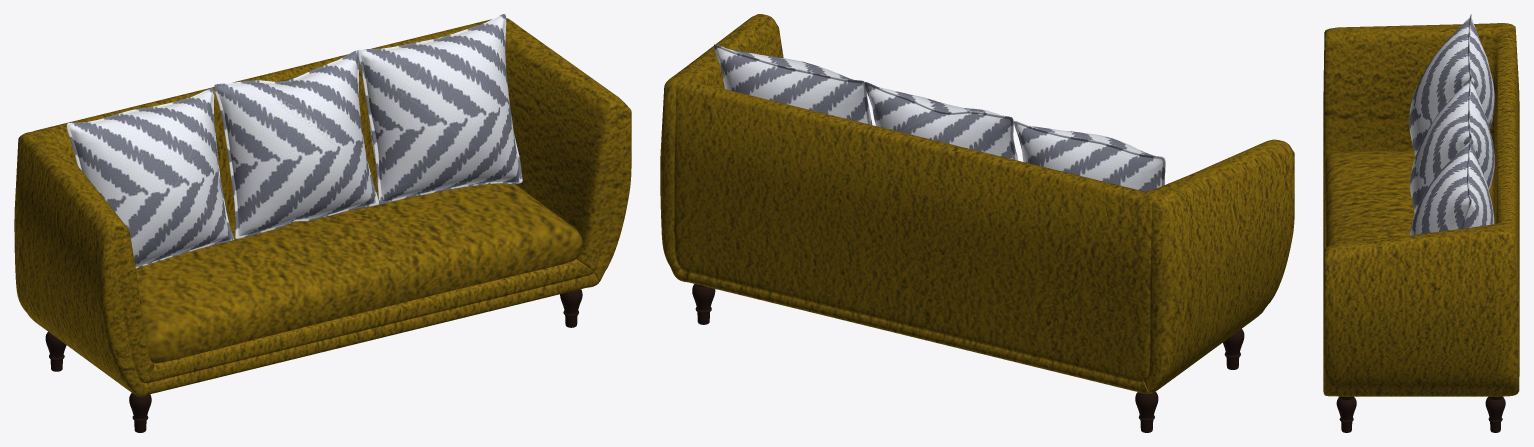
3 views of the same model, side by side, from view 1: azimuth 30°, elevation 25°; view 2: azimuth 150°, elevation 25°; view 3: azimuth 270°, elevation 25° (orthographic). The views are drawn at different scales.
Parts seen in each view (by area): view 1: pillow_01_geo, couch, seat, Legs_02_geo; view 2: couch, pillow_01_geo, Legs_02_geo; view 3: couch, pillow_01_geo, seat, Legs_02_geo.
Part boxes in pixels (x1,y1,x2,y2): pillow_01_geo: (66,14,522,268); couch: (14,18,631,396); seat: (136,183,582,363); Legs_02_geo: (45,289,582,432); couch: (660,14,1294,394); pillow_01_geo: (714,44,1165,191); Legs_02_geo: (692,284,1244,432); couch: (1323,23,1519,396); pillow_01_geo: (1409,14,1494,235); seat: (1324,150,1494,247); Legs_02_geo: (1336,396,1505,432).
Size of the model in its own units: 2.09 by 0.9805 by 0.7535.
Materials: 4 (3 with a texture image).
